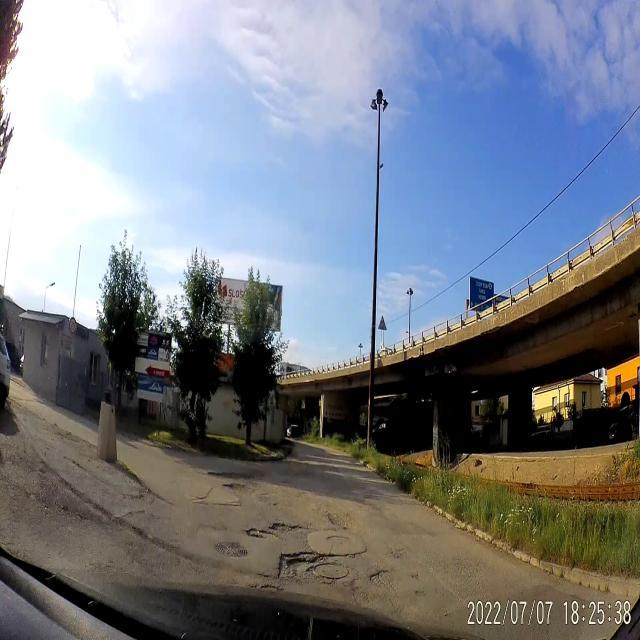Manhole: (214, 536, 250, 564), (314, 559, 348, 581), (326, 530, 356, 550)
Pothole: (243, 512, 307, 540), (270, 551, 316, 587), (368, 566, 397, 592), (208, 468, 260, 480), (224, 482, 252, 494), (413, 590, 428, 598), (410, 572, 421, 580)
